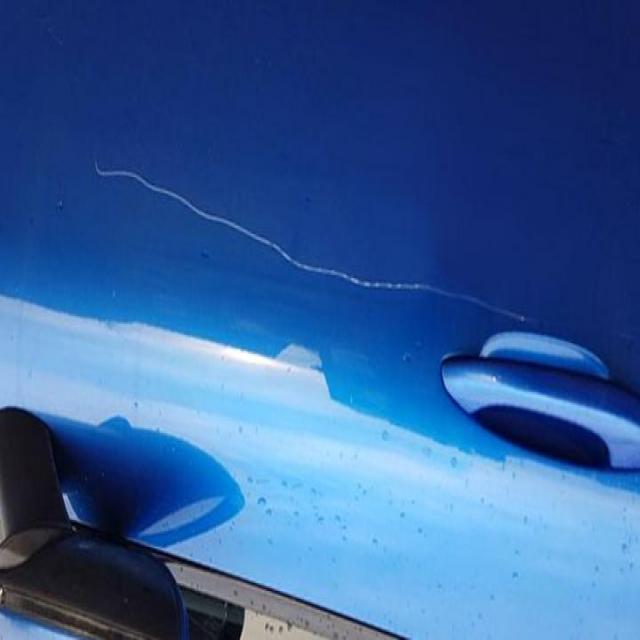scratch: (86, 149, 542, 344)
